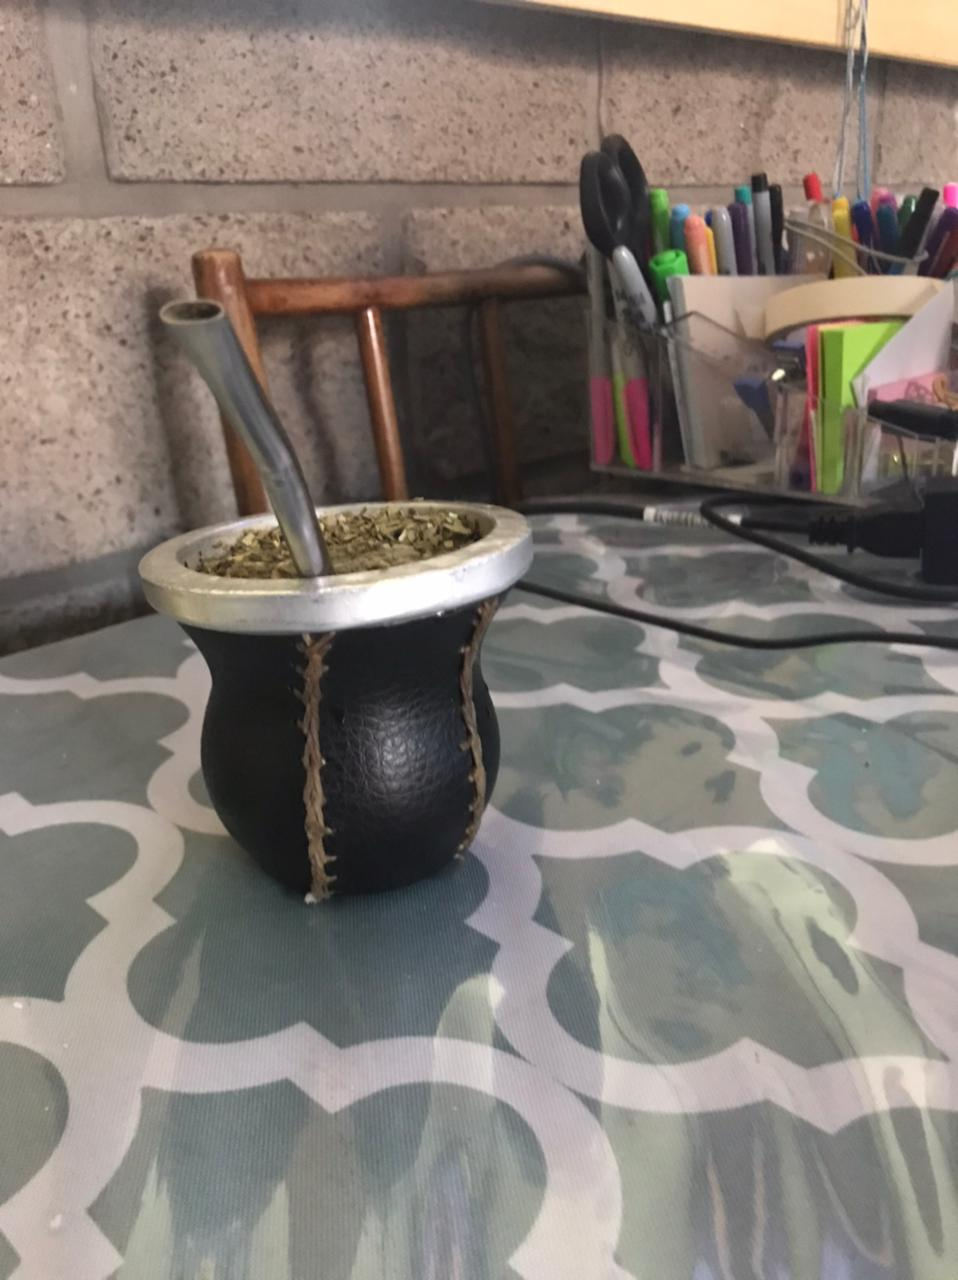mate: (105, 285, 549, 922)
